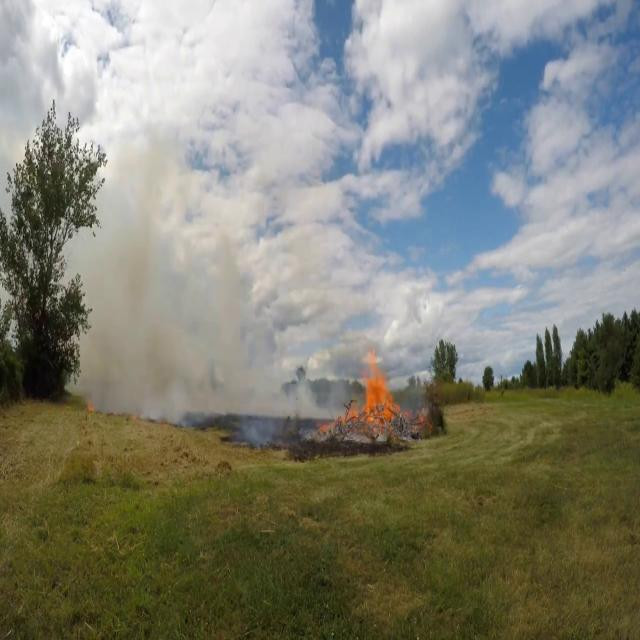Fire: (342, 346, 403, 432)
Smoke: (66, 102, 314, 440)
